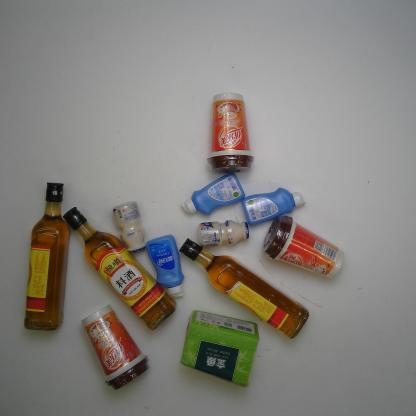Instant Drink: (80, 302, 152, 392), (259, 215, 346, 279), (204, 91, 254, 174)
Milk: (112, 198, 148, 254), (196, 220, 251, 248)
Personal Hygiene: (179, 172, 246, 216), (240, 184, 307, 227), (144, 233, 186, 298)
Seasoner: (62, 205, 178, 331), (177, 236, 311, 341), (22, 181, 70, 332)
Tissue: (180, 309, 262, 390)
